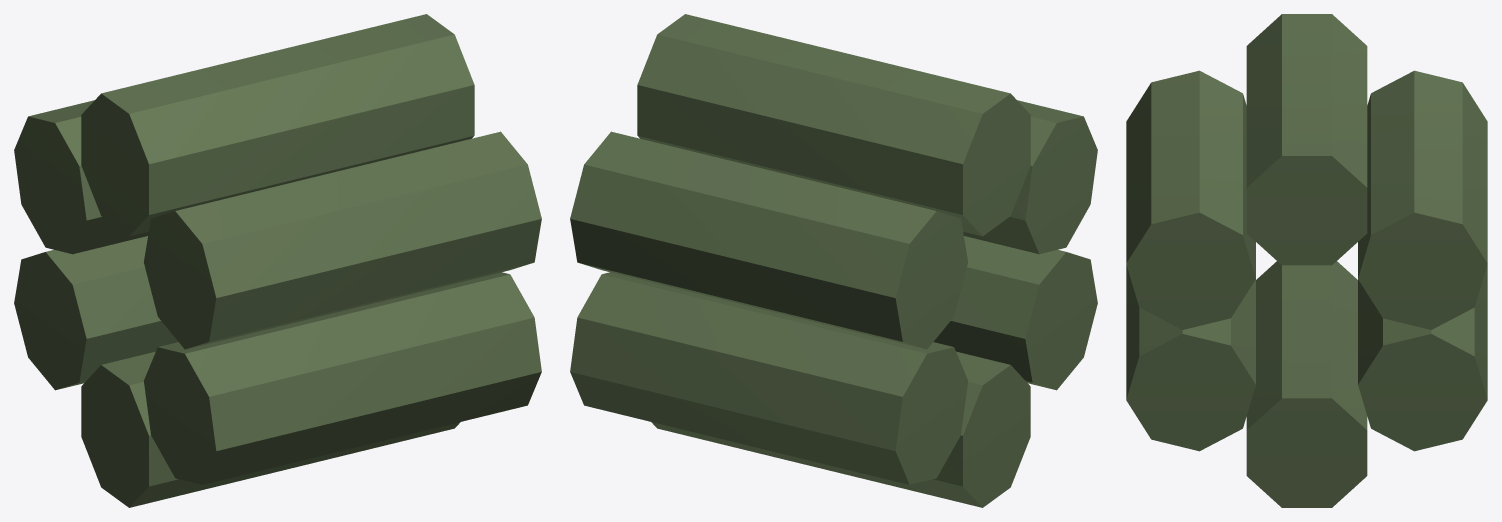
File: HeavyWeapon1_06_2.fbx
3 views of the same model, side by side, from view 1: azimuth 30°, elevation 25°; view 2: azimuth 150°, elevation 25°; view 3: azimuth 270°, elevation 25° (orthographic). The views are drawn at different scales.
Parts seen in each view (by area): view 1: HeavyWeapon1_06_2; view 2: HeavyWeapon1_06_2; view 3: HeavyWeapon1_06_2.
Boxes of the visible parts, x1,y1,x2,y2 form: HeavyWeapon1_06_2: (14, 14, 541, 507); HeavyWeapon1_06_2: (570, 14, 1097, 507); HeavyWeapon1_06_2: (1126, 14, 1487, 507).
Size of the model in its own units: 0.129 by 0.1491 by 0.1388.
